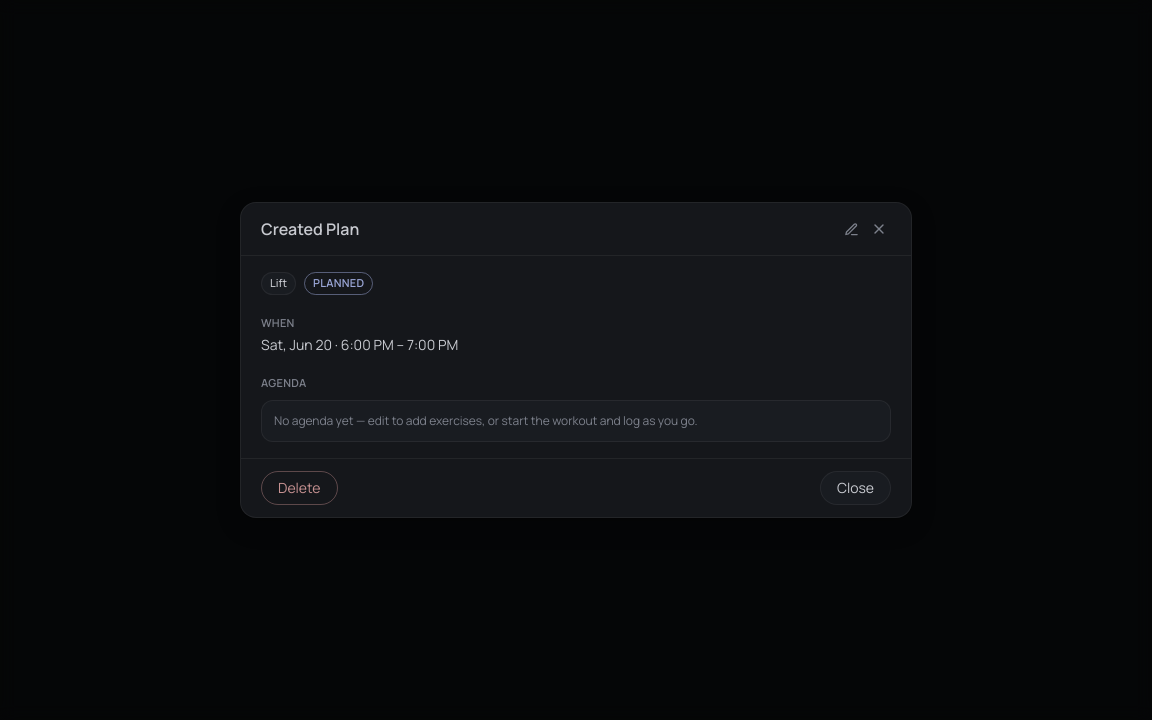
Test case: PlannedWorkoutModal › lets the confirm panel be cancelled without deleting
Click the button "Delete": [299, 488] box [261,471,338,505]
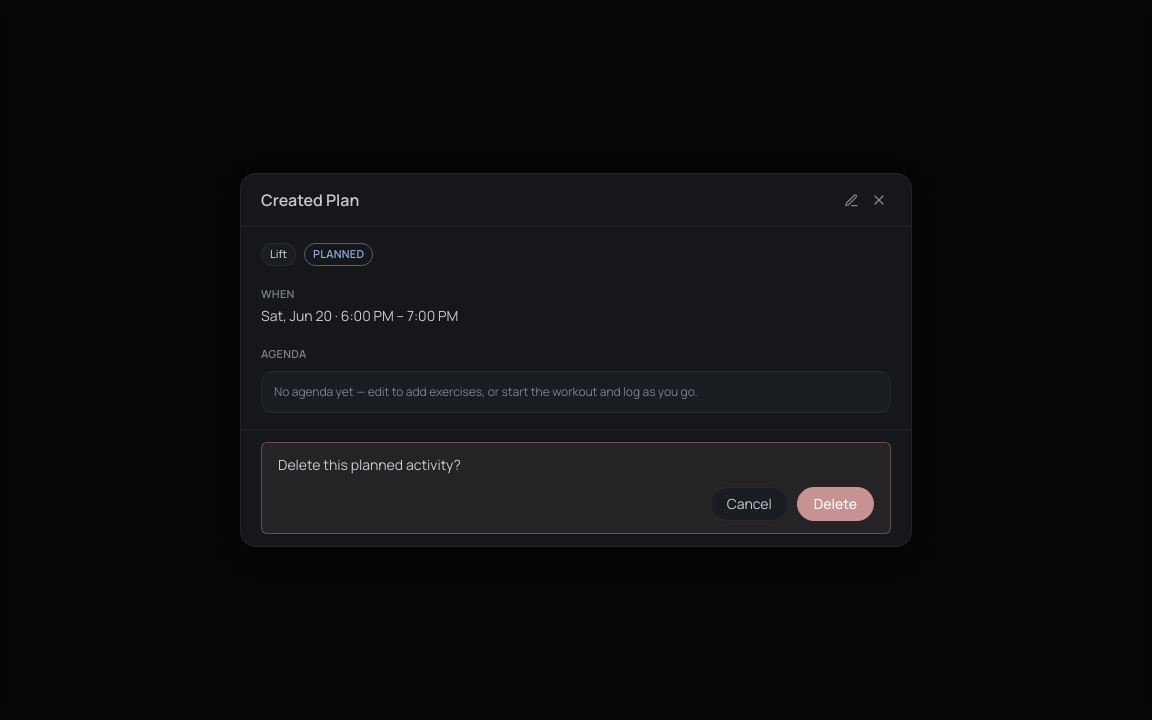
Click the button "Cancel": [749, 504] box [710,487,789,521]
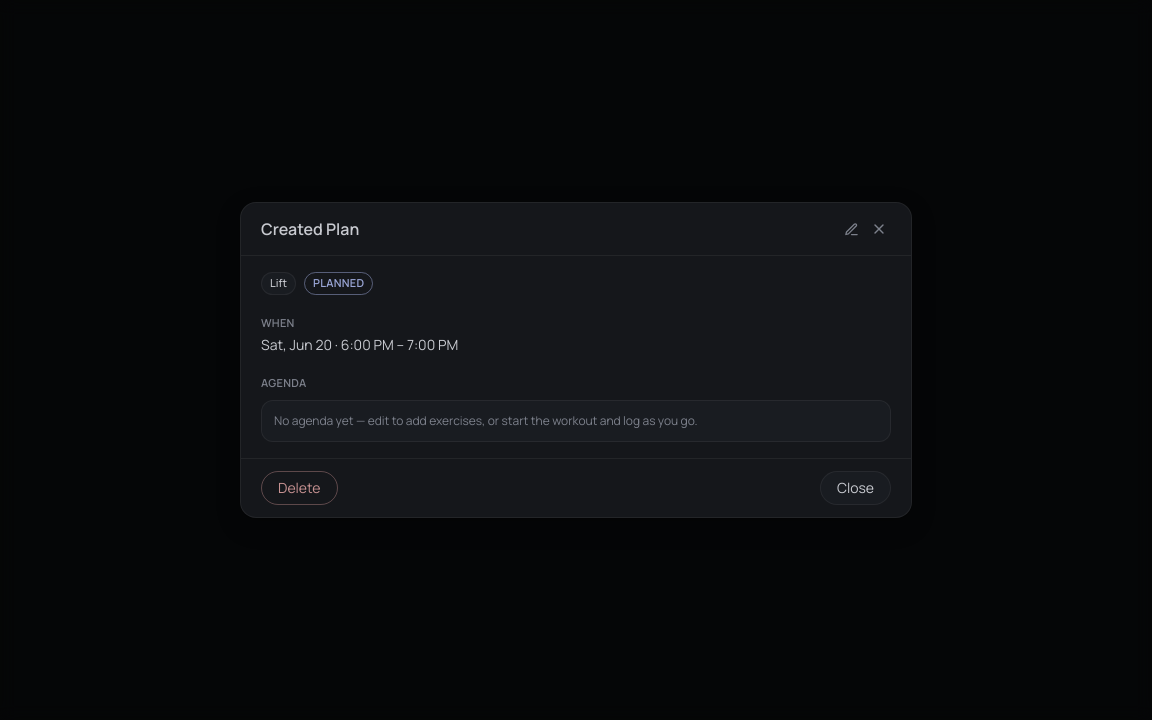
Expected: the button "Delete" is shown, [261,471,338,505]
Expected: the text "Delete this planned activity?" is gone
